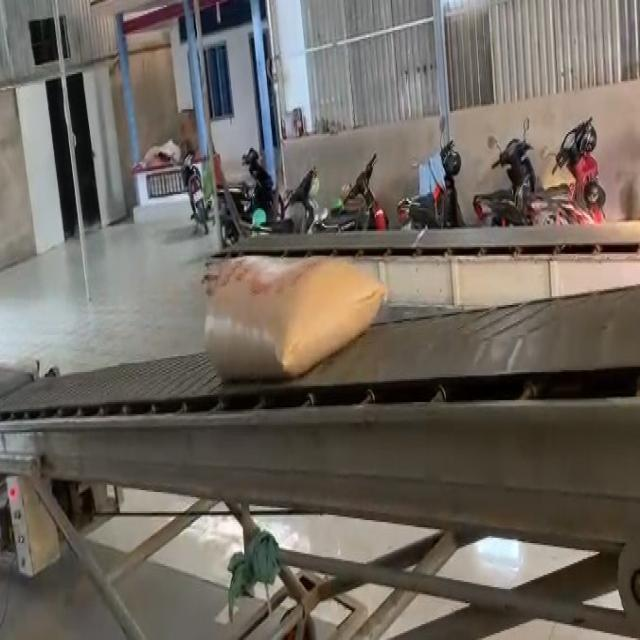gunny_bag: (205, 256, 385, 380)
